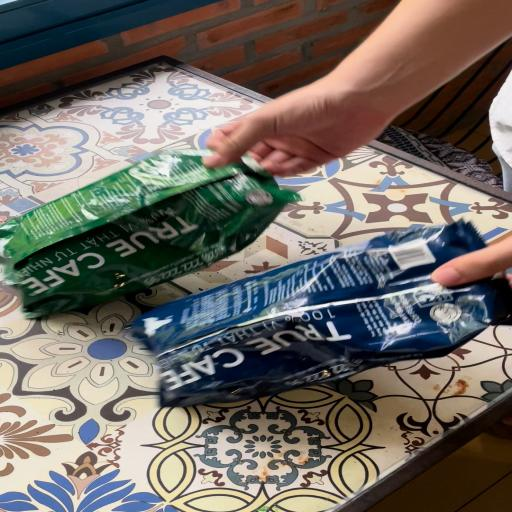cafe_hat: (128, 220, 512, 407)
cafe_xay: (0, 151, 298, 318)
